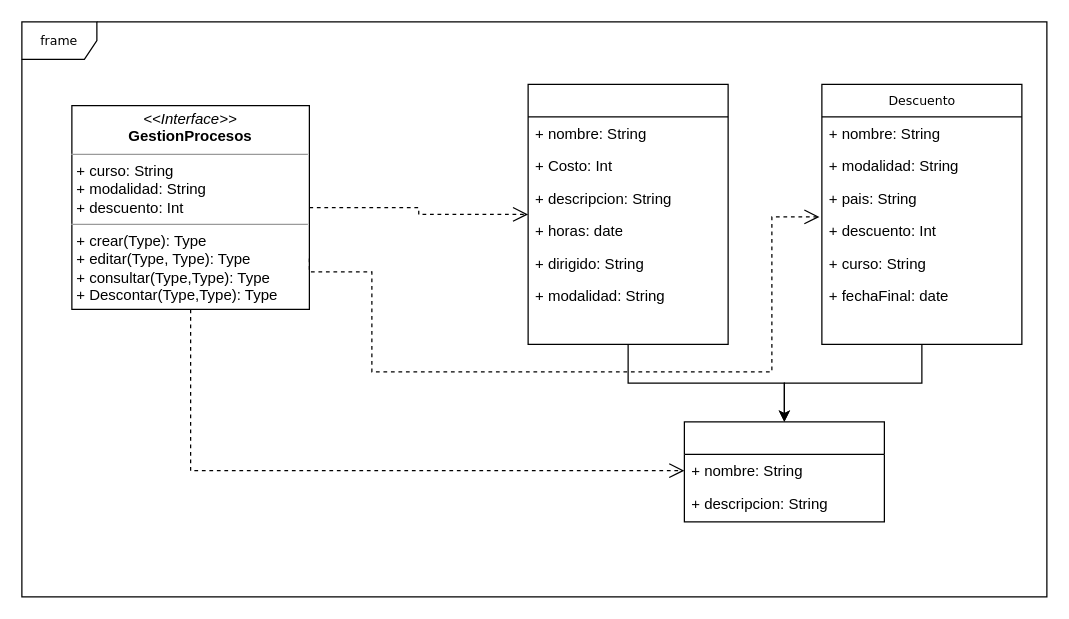
Image size: 1069x619. Some labels were removed from this diagram. The shapes that lost their labels are listed below. From the top down, each one's box as (x1, y1, x2, y2) in pixels, then its label:
(527, 83, 728, 344): Curso
(683, 421, 884, 522): Modalidad
